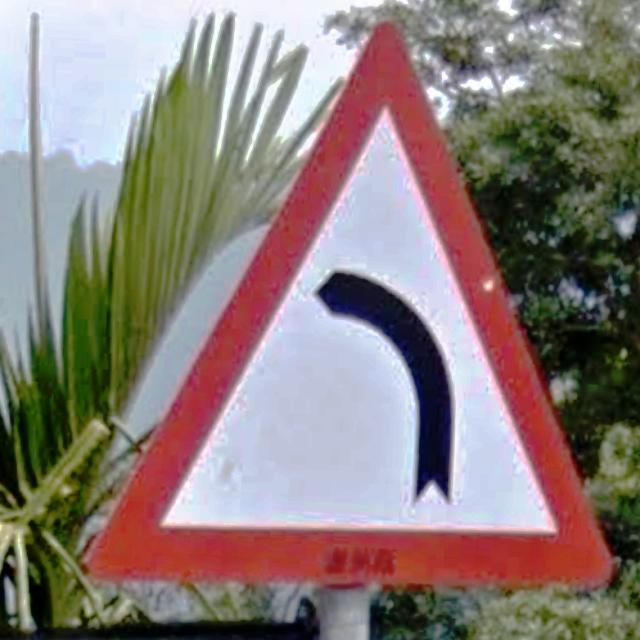leftbend: (82, 22, 615, 590)
